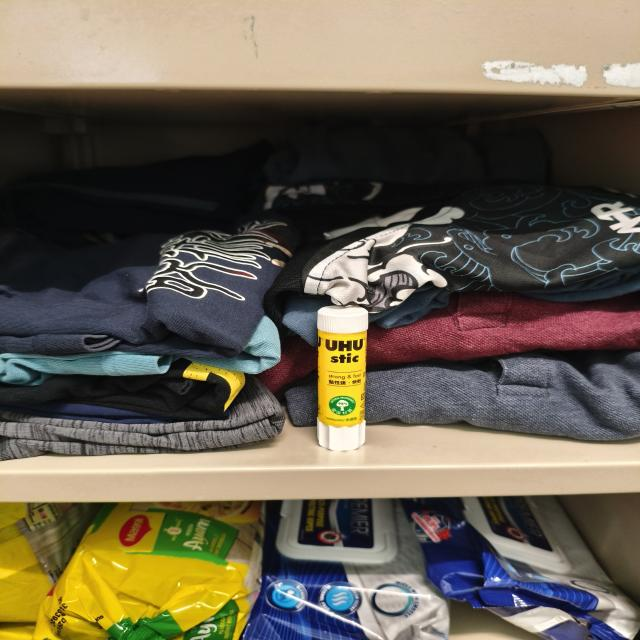glue: (316, 305, 371, 451)
